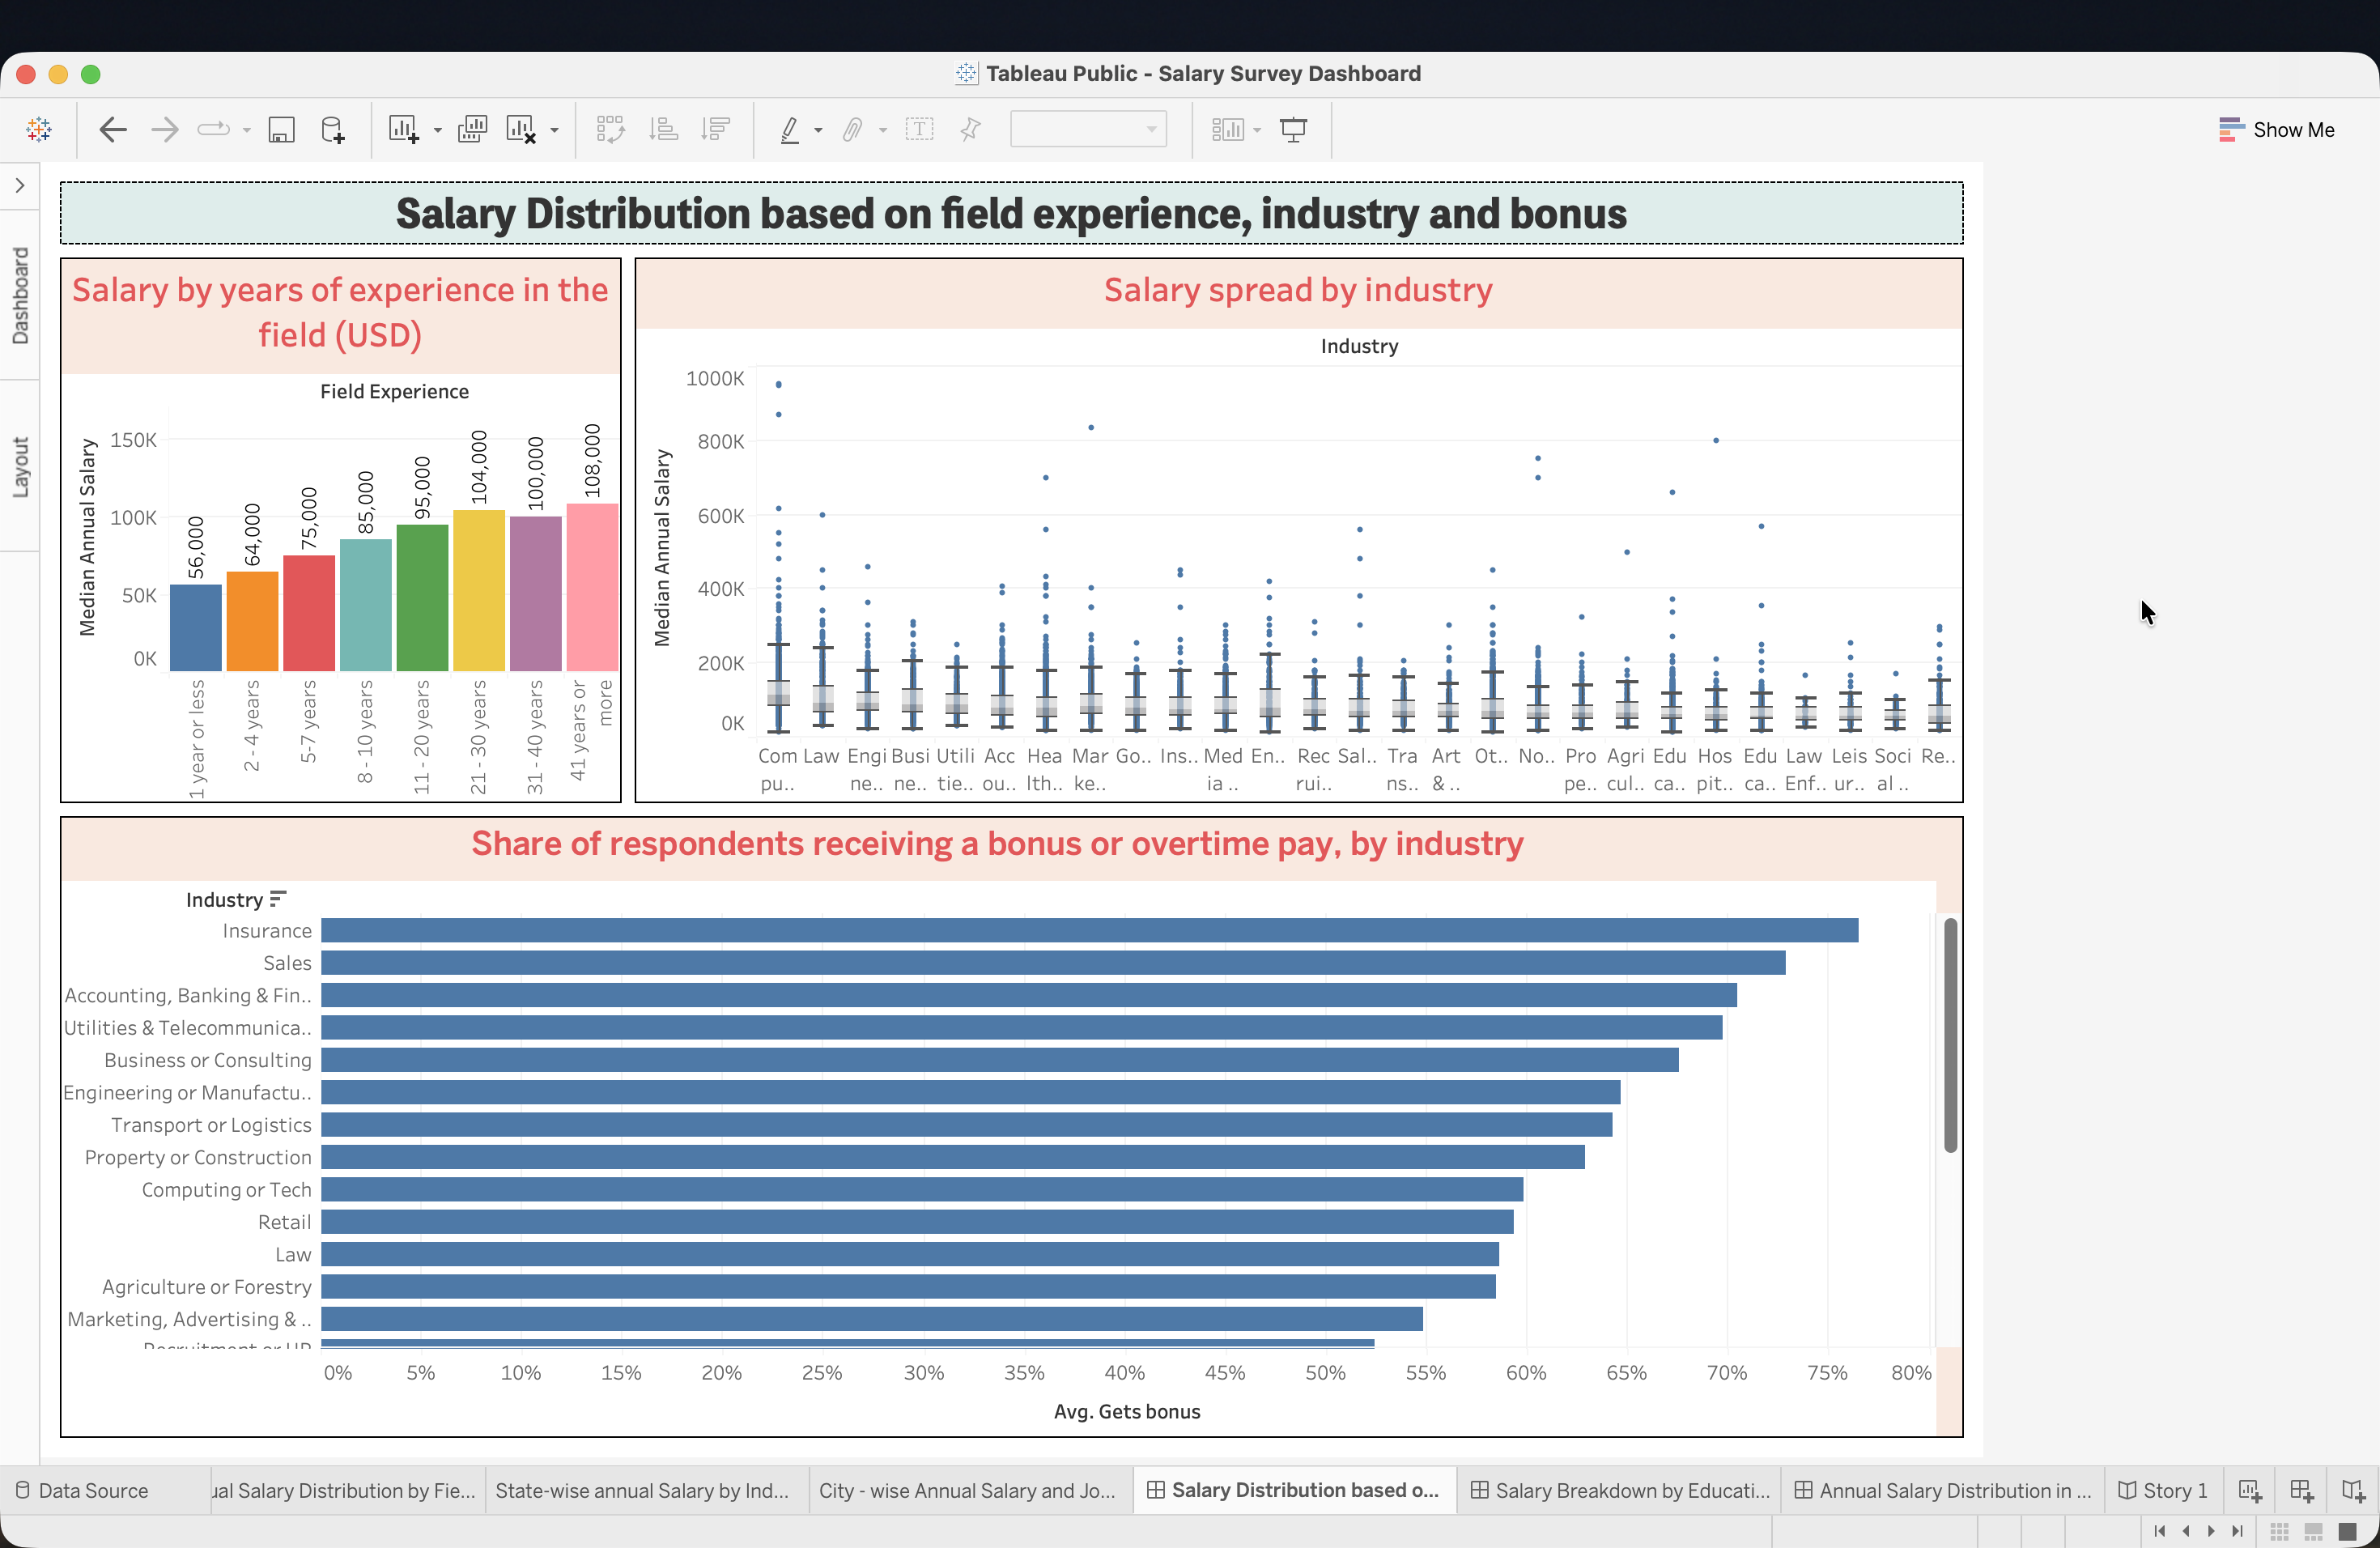

The page's visual inventory and layout, read from the dashboard file:
{"tool":"tableau","page":{"name":"Salary Distribution based on Various Factors","canvas":[1200,800],"ordinal":2},"visuals":[{"type":"title","box":[8,8,1184,47]},{"type":"worksheet","title":"Annual Salary Distribution by Field_Experience","mark":"Bar","rows":["ANNUAL_SALARY"],"cols":["FIELD_EXPERIENCE"],"box":[8,55,355.3,323]},{"type":"worksheet","title":"Annual Salary Distribution by Industry and Job Title","mark":"Circle","rows":["ANNUAL_SALARY"],"cols":["INDUSTRY"],"box":[363.3,55,828.7,323]},{"type":"worksheet","title":"Bonus_or_overtime vs Industry in diff Countries","mark":"Automatic","rows":["INDUSTRY"],"cols":["Calculation_3723148897218560"],"box":[8,378,1184,414]}]}

Visuals, with their boxes on the page's 1200x800 design canvas (x1, y1, x2, y2). These are canvas units, not pixel positions in the 2380x1548 screenshot, which may show the page scaled, cropped or inside an application window:
title: box(8, 8, 1192, 55)
"Annual Salary Distribution by Field_Experience" worksheet (Bar marks): box(8, 55, 363, 378)
"Annual Salary Distribution by Industry and Job Title" worksheet (Circle marks): box(363, 55, 1192, 378)
"Bonus_or_overtime vs Industry in diff Countries" worksheet: box(8, 378, 1192, 792)
